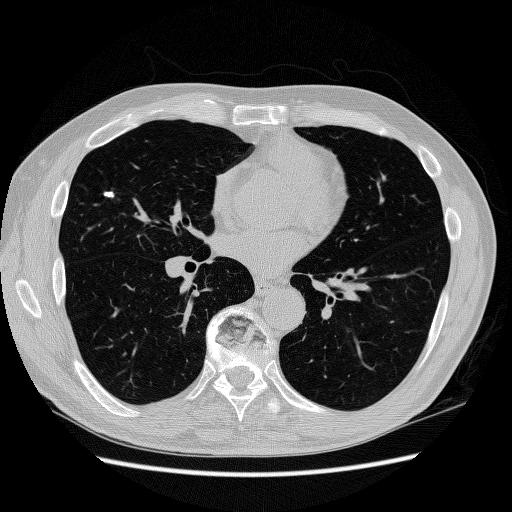nodule: (102, 187, 117, 202)
